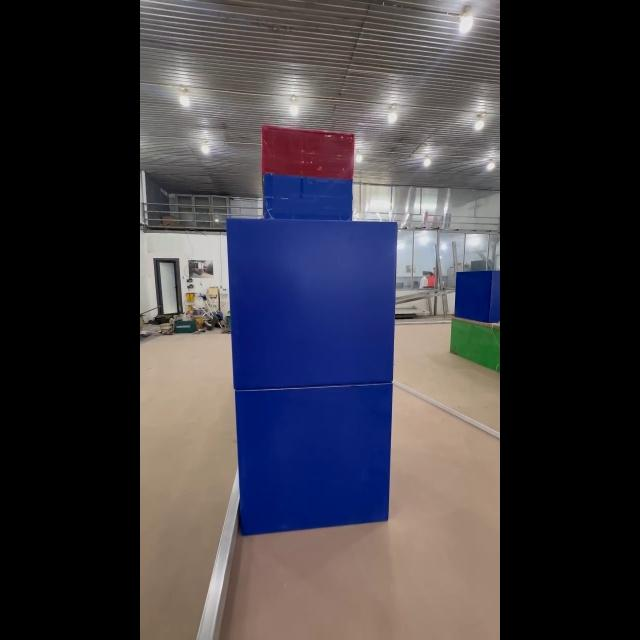earth_block: (218, 219, 402, 387), (232, 383, 394, 537)
sky_block: (255, 122, 356, 220)
